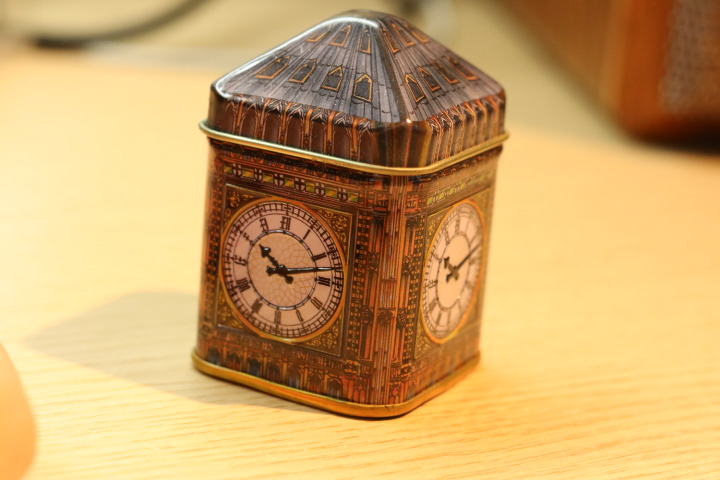Big Ben: (184, 5, 527, 432)
